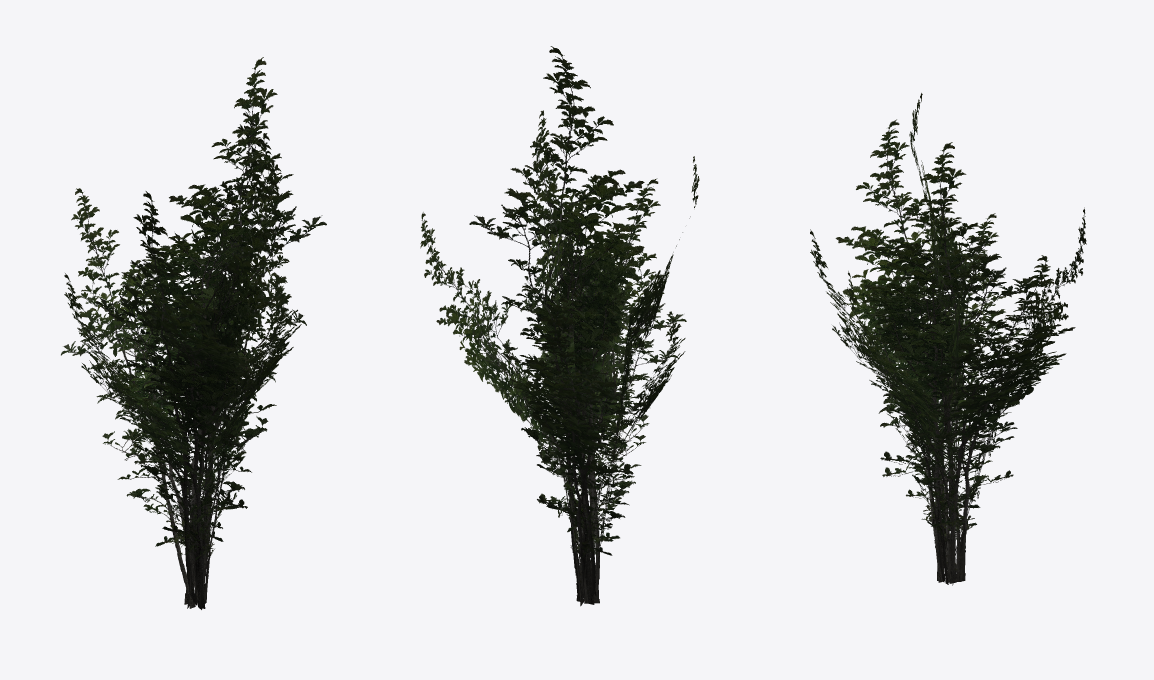
The model's file is tree_1.glb.
3 views of the same model, side by side, from view 1: azimuth 30°, elevation 25°; view 2: azimuth 150°, elevation 25°; view 3: azimuth 270°, elevation 25° (orthographic). The views are drawn at different scales.
Parts seen in each view (by area): view 1: tree_1; view 2: tree_1; view 3: tree_1.
Boxes of the visible parts, left/top/right/bottom form: tree_1: left=61, top=57, right=326, bottom=609; tree_1: left=420, top=46, right=699, bottom=606; tree_1: left=810, top=93, right=1086, bottom=585.
Bounding box in the file's own units: 1.97 × 4.3 × 2.5.
1 material, 1 textured.
